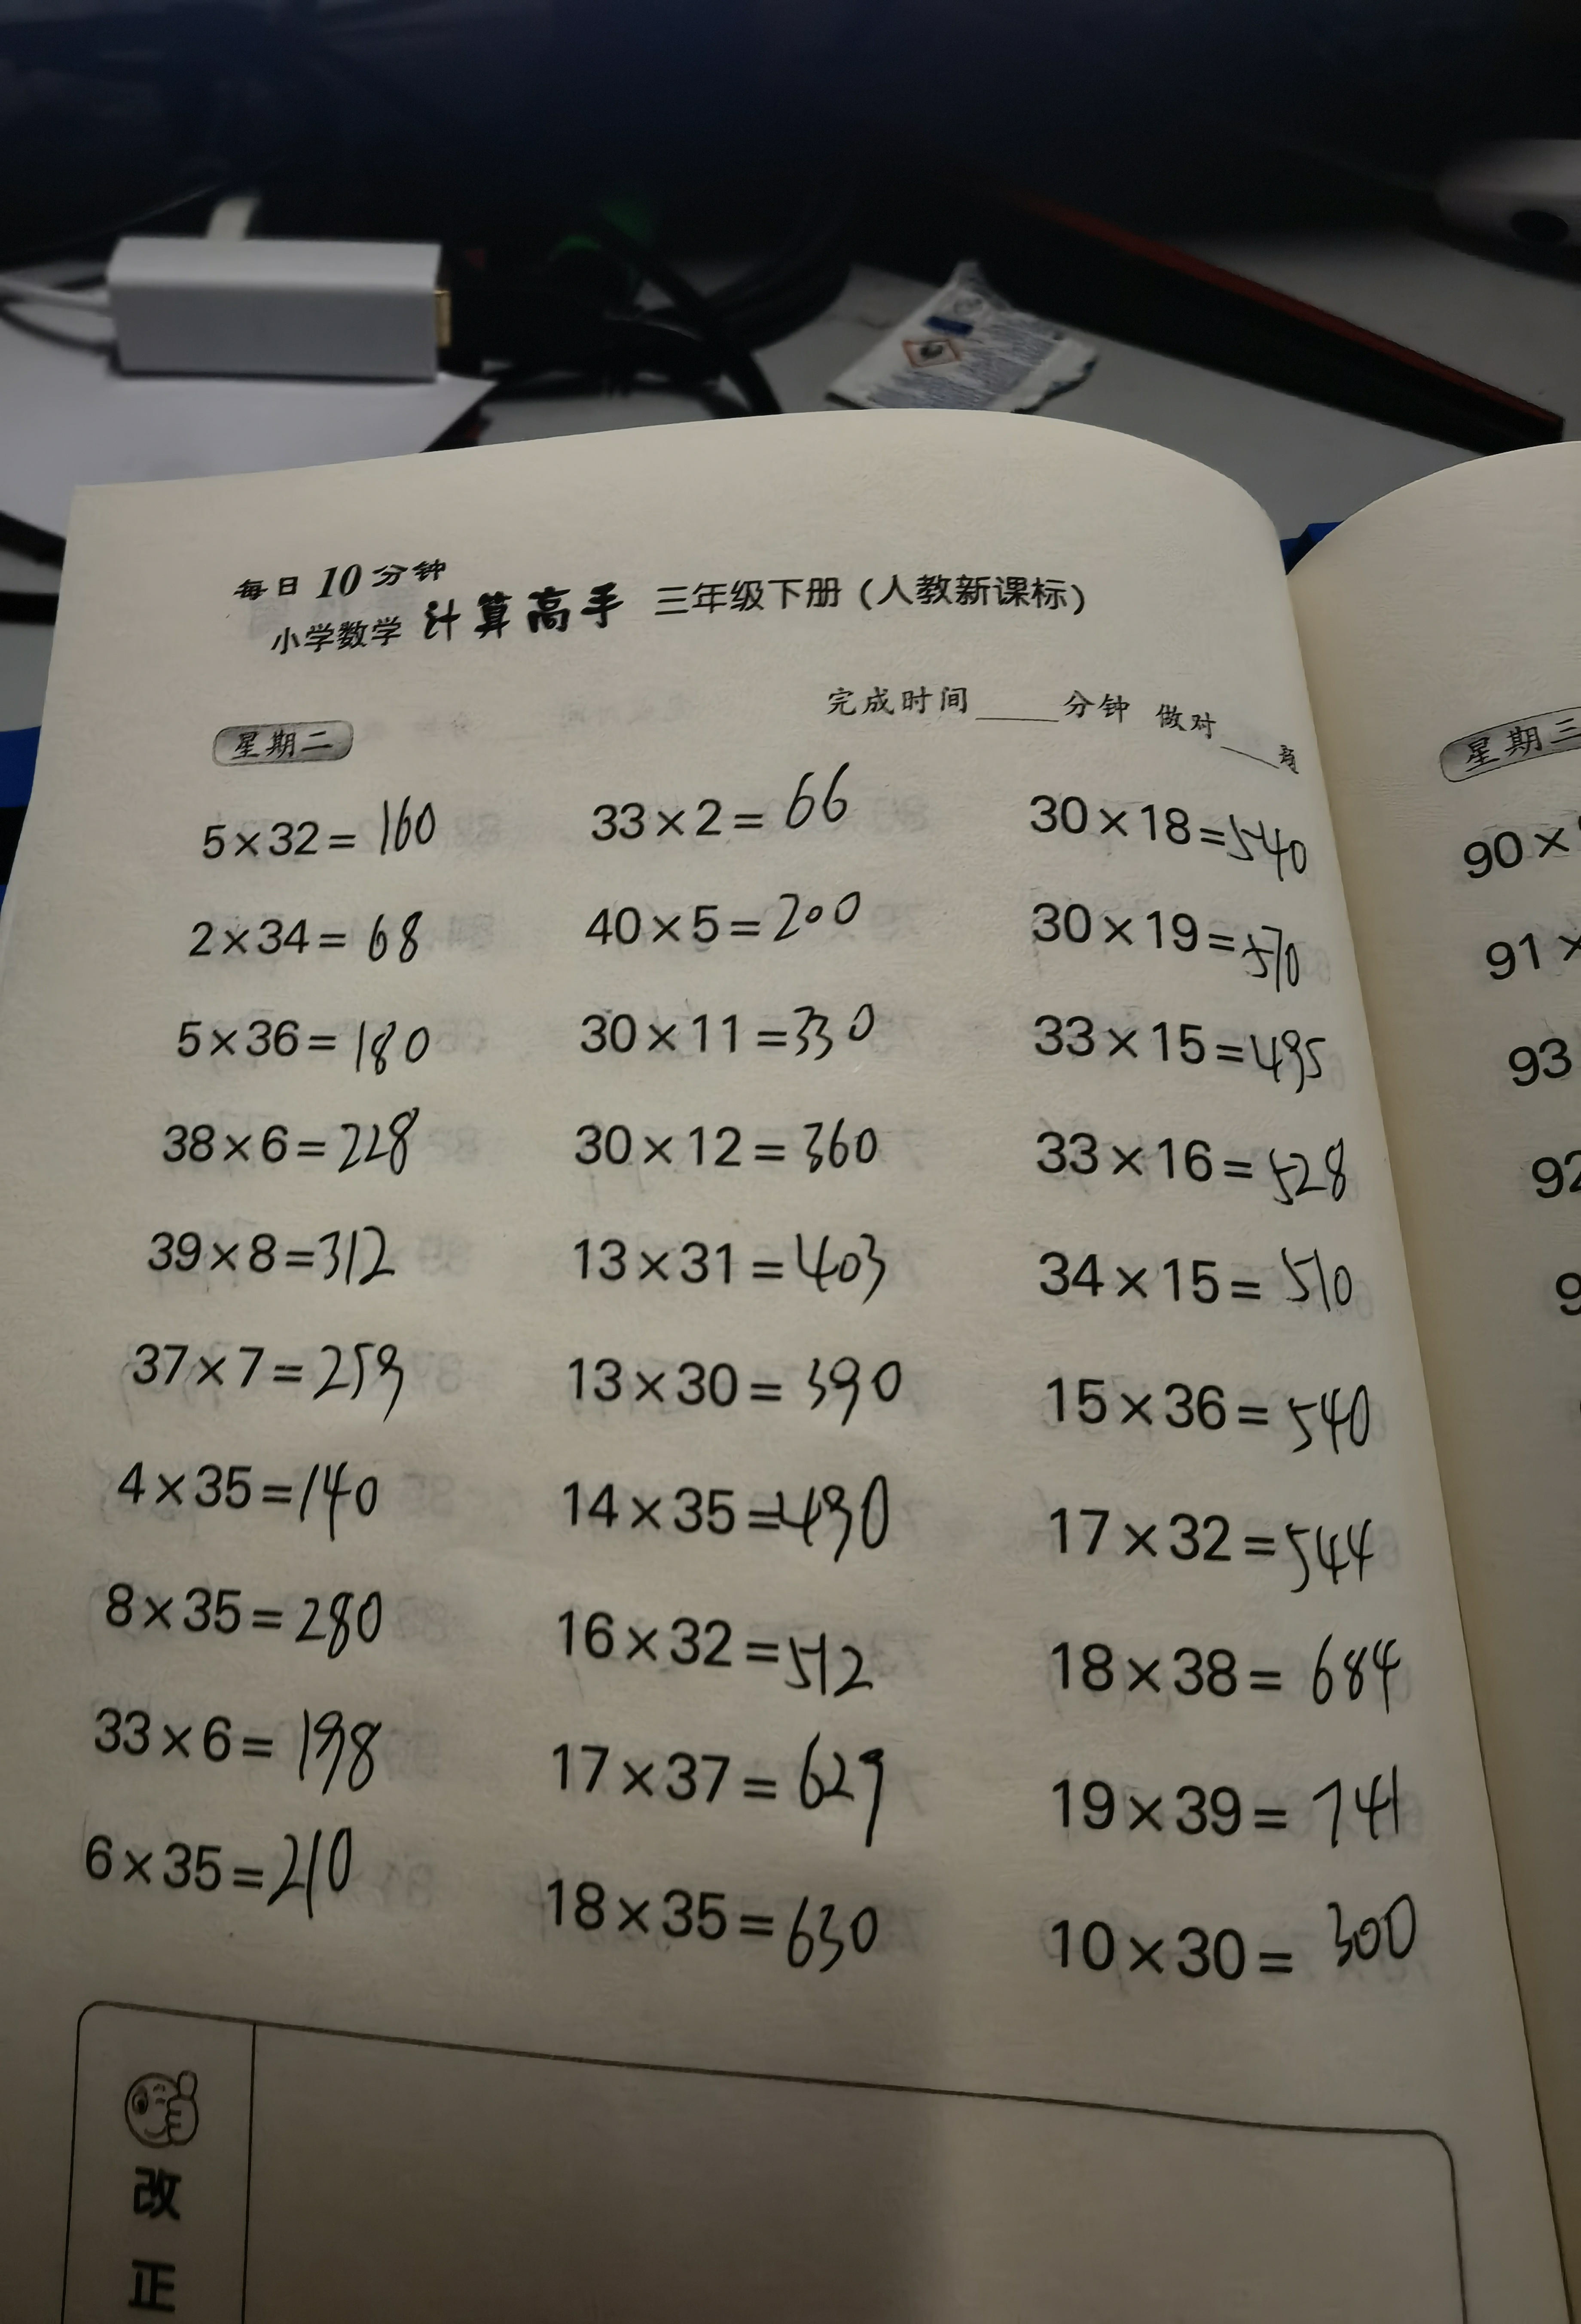equation: (498, 1840, 925, 1992), (524, 1710, 942, 1855), (1041, 1486, 1433, 1623), (536, 1586, 939, 1717), (1032, 1874, 1436, 2003), (69, 1669, 438, 1809), (67, 1807, 422, 1941), (1000, 757, 1348, 893), (1045, 1355, 1399, 1482), (549, 1452, 912, 1576), (99, 1429, 441, 1549), (1039, 1623, 1415, 1731), (88, 1311, 471, 1412), (542, 1214, 923, 1315), (1023, 1232, 1366, 1339), (551, 1106, 914, 1207), (1004, 888, 1337, 997), (83, 1563, 432, 1666), (1029, 1759, 1431, 1848), (536, 1341, 910, 1431), (1030, 1117, 1359, 1219), (1022, 999, 1375, 1092), (139, 1096, 453, 1200), (171, 985, 482, 1089), (162, 888, 478, 990), (132, 1205, 457, 1304), (549, 981, 891, 1075), (176, 775, 475, 881), (563, 762, 875, 845), (558, 875, 902, 948)
